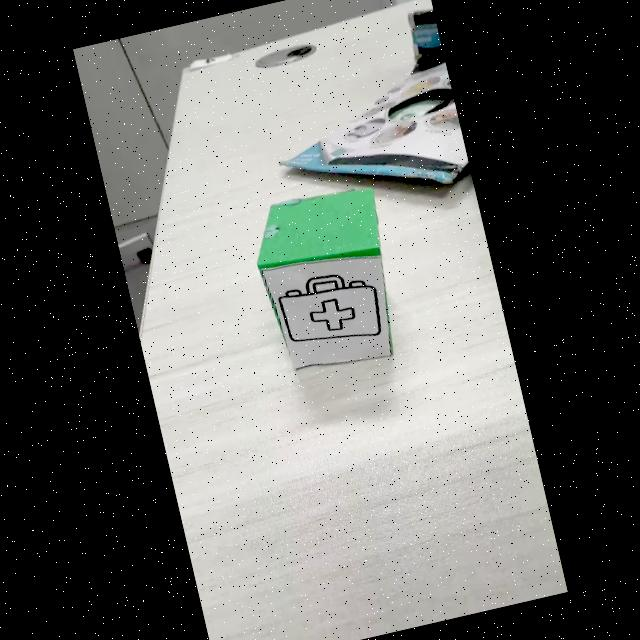Medkit: (278, 275, 381, 341)
